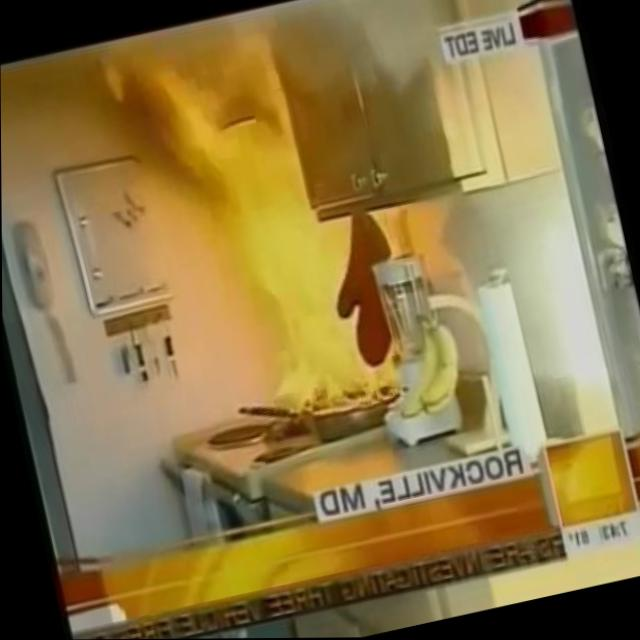fire: (108, 19, 422, 447)
